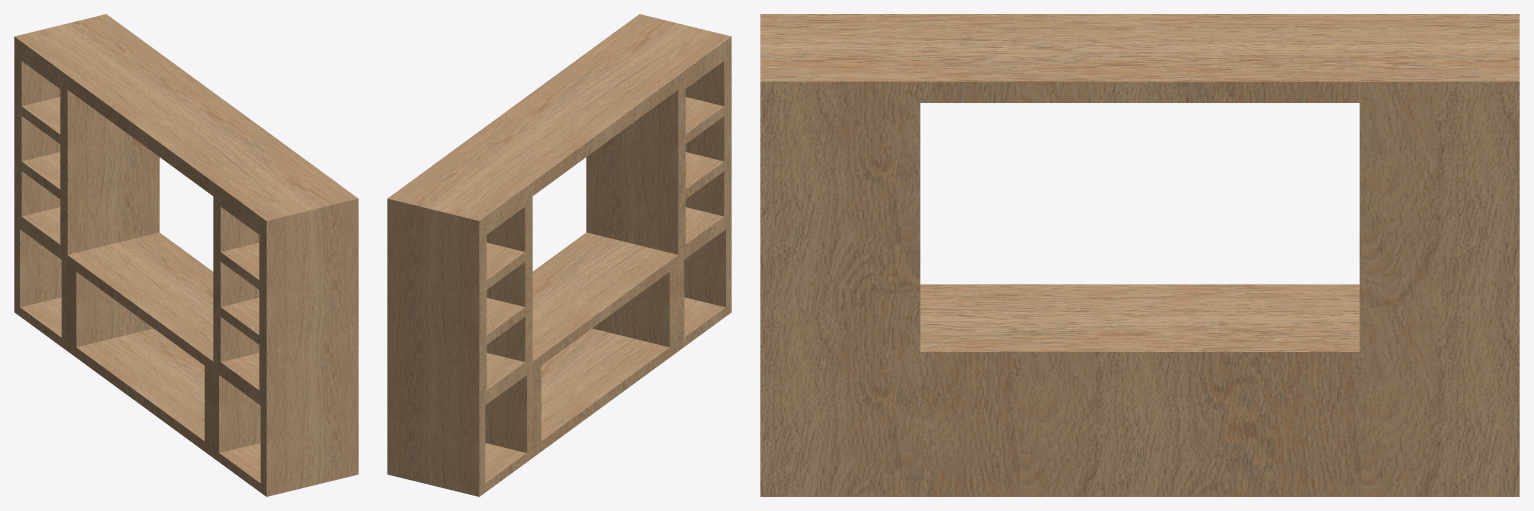
Rendered from TvMeubelHoog.fbx.
3 views of the same model, side by side, from view 1: azimuth 30°, elevation 25°; view 2: azimuth 150°, elevation 25°; view 3: azimuth 270°, elevation 25° (orthographic). The views are drawn at different scales.
Visible parts, largest first — view 1: Cube.003; view 2: Cube.003; view 3: Cube.003.
Part boxes in pixels (x1,y1,x2,y2): Cube.003: (14,14,358,496); Cube.003: (387,14,731,496); Cube.003: (760,14,1519,496).
Size of the model in its own units: 200 by 573 by 949.
